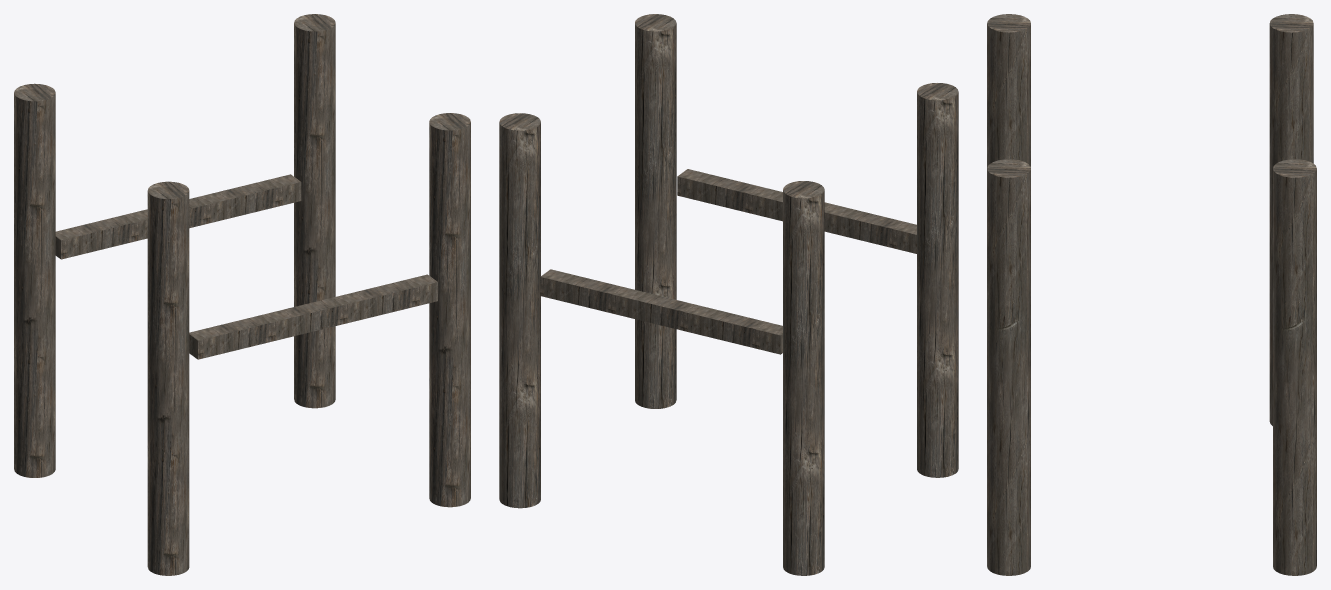
File: plataformacomp.fbx
3 renders of one model, left to right at view 1: azimuth 30°, elevation 25°; view 2: azimuth 150°, elevation 25°; view 3: azimuth 270°, elevation 25°, orthographic. The views are drawn at different scales.
Parts seen in each view (by area): view 1: marco; view 2: marco; view 3: marco.
Part boxes in pixels (x1,y1,x2,y2): marco: [14, 14, 470, 575]; marco: [499, 14, 958, 575]; marco: [987, 14, 1316, 575].
Bounding box in the file's own units: 529 × 600 × 450.
2 materials, 2 textured.
